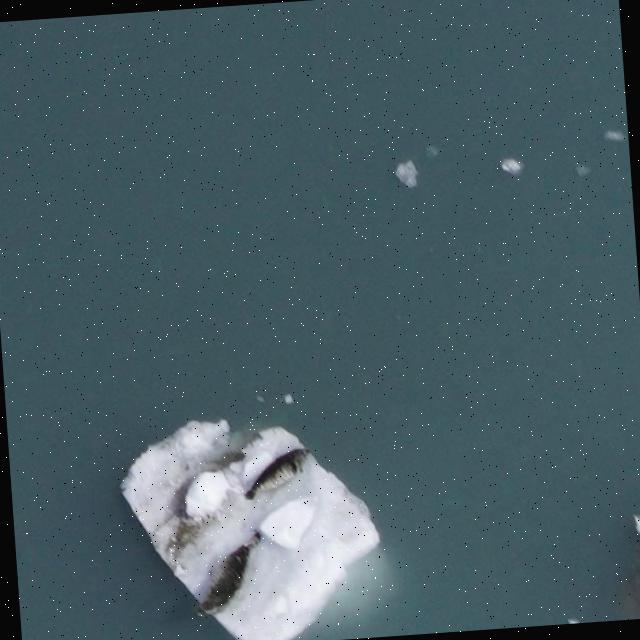seal: (192, 521, 266, 627), (234, 440, 318, 510)
